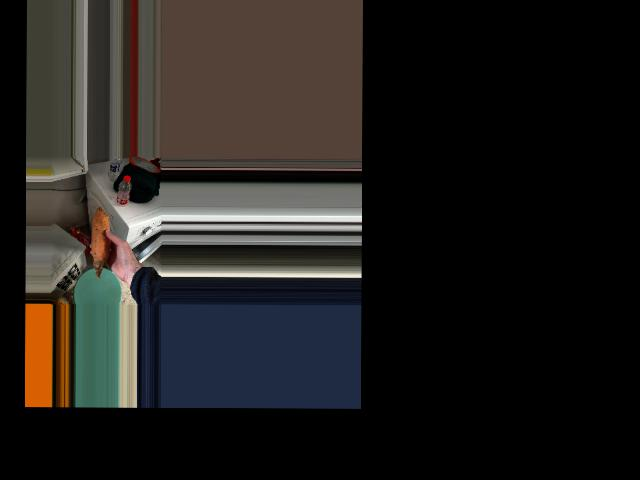sweet_potato: (92, 209, 108, 269)
